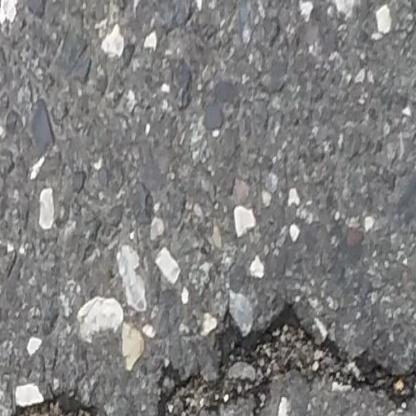Cracks: (144, 298, 416, 416), (0, 389, 137, 416)
